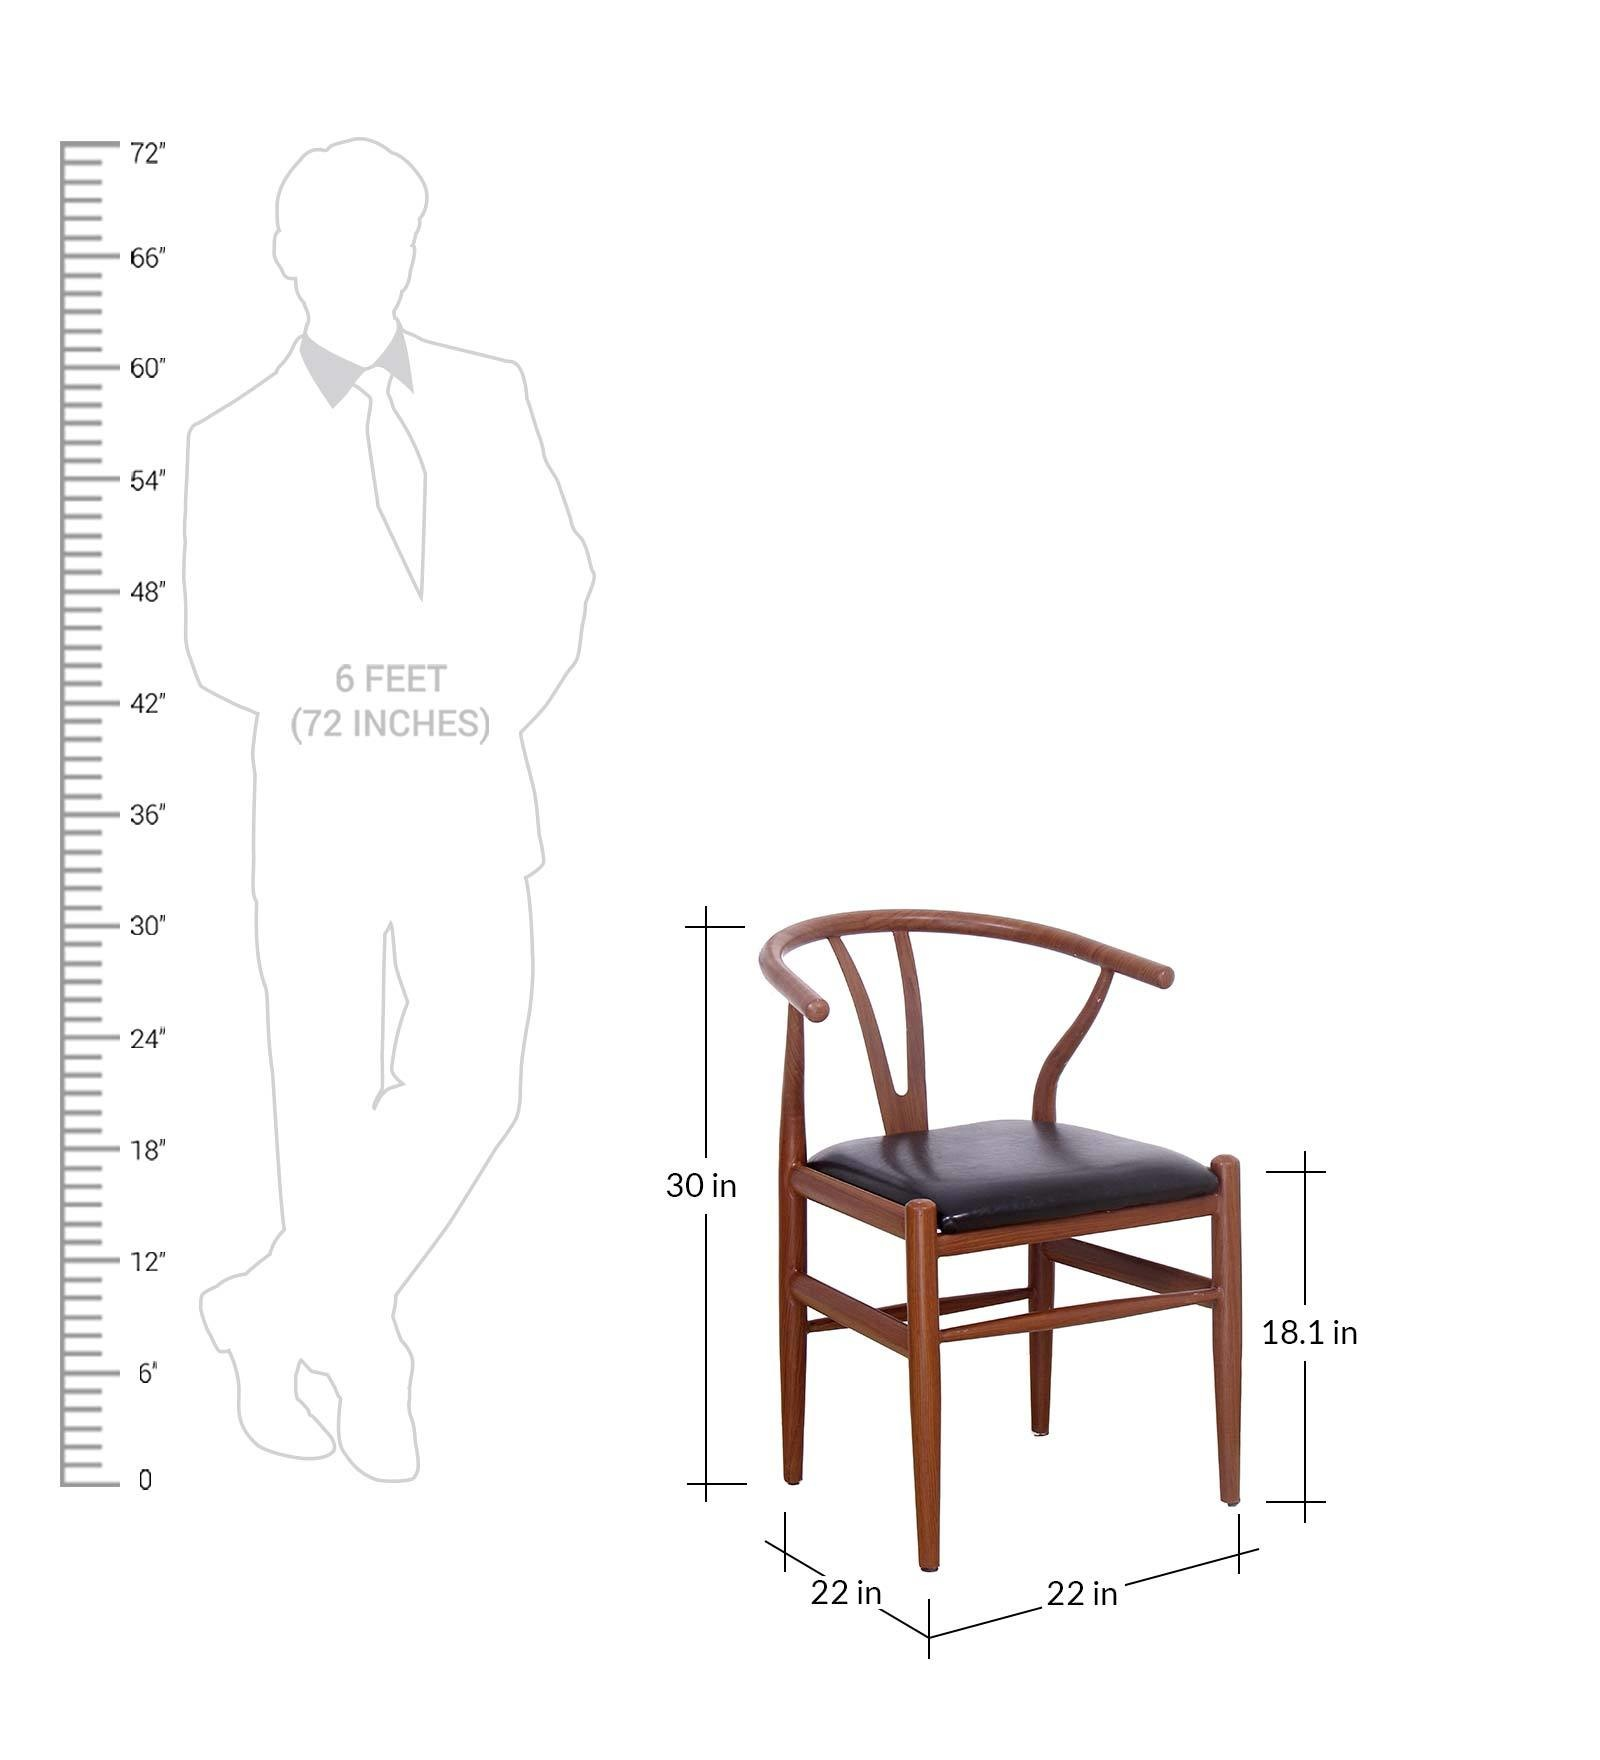Palo Metal Chair (Set of 2) in Walnut Finish by Bohemiana: (748, 898, 1267, 1578)
